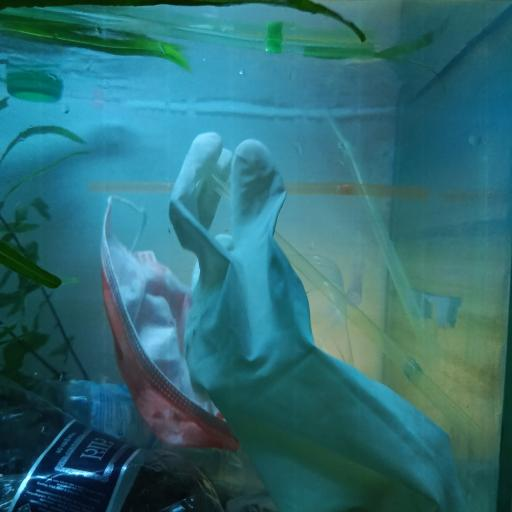bottle_cap: (6, 73, 62, 100)
glove: (168, 129, 467, 512)
mask: (99, 193, 238, 448)
plastic_bottle: (1, 375, 223, 512), (34, 376, 251, 484)
plastic_cup: (284, 253, 352, 363)
plastic_straw: (208, 174, 480, 438), (310, 93, 430, 342), (2, 3, 380, 61), (88, 178, 429, 201)
